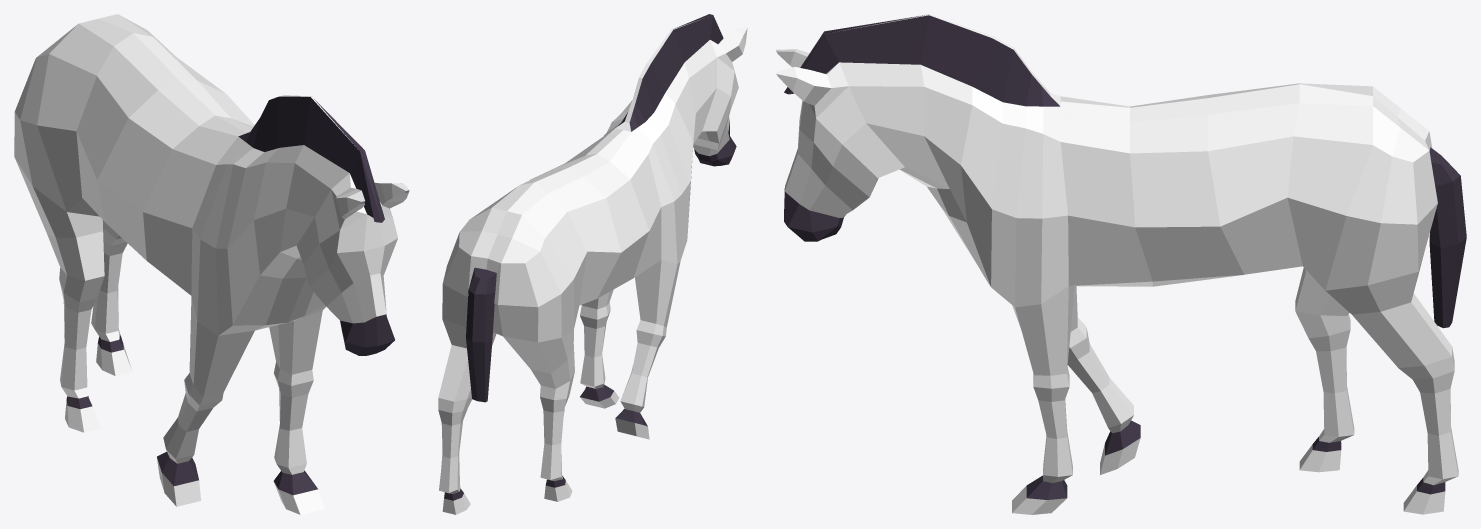
Rendered from Zebra2.fbx.
3 renders of one model, left to right at view 1: azimuth 30°, elevation 25°; view 2: azimuth 150°, elevation 25°; view 3: azimuth 270°, elevation 25°, orthographic. The views are drawn at different scales.
Visible parts, largest first — view 1: Zebra.002; view 2: Zebra.002; view 3: Zebra.002.
Part boxes in pixels (x1,y1,x2,y2): Zebra.002: [14, 14, 409, 514]; Zebra.002: [438, 14, 747, 514]; Zebra.002: [776, 14, 1466, 514].
Size of the model in its own units: 0.7376 by 2.16 by 2.85.
